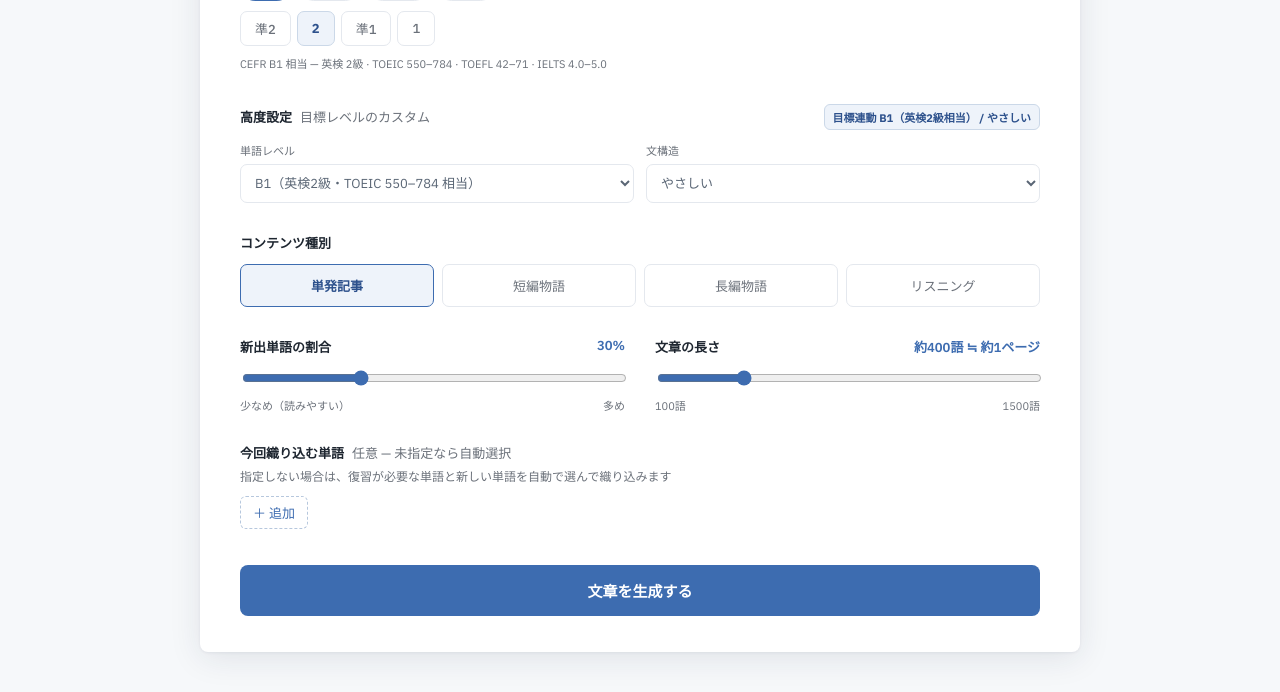
Test: <SetupScreen/> (overhauled: intent / exam / word target / content type) › gives manual chips a delete affordance and aria-label (A-2-4)
This screenshot has width=1280, height=692.
(page scrolled)
Click the button "＋ 追加".
click(274, 512)  # box [240,496,308,529]
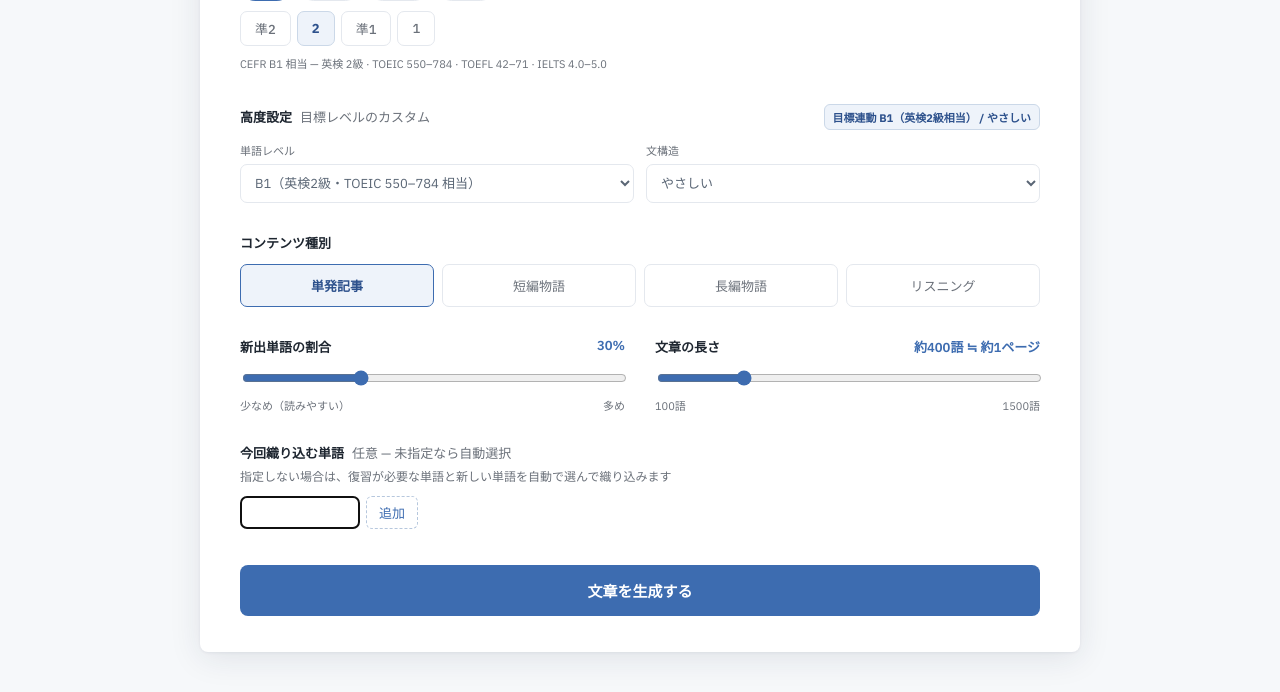
Type "zeal" into the field named "追加する単語".
click(300, 512); type("zeal")  # box [240,496,360,529]
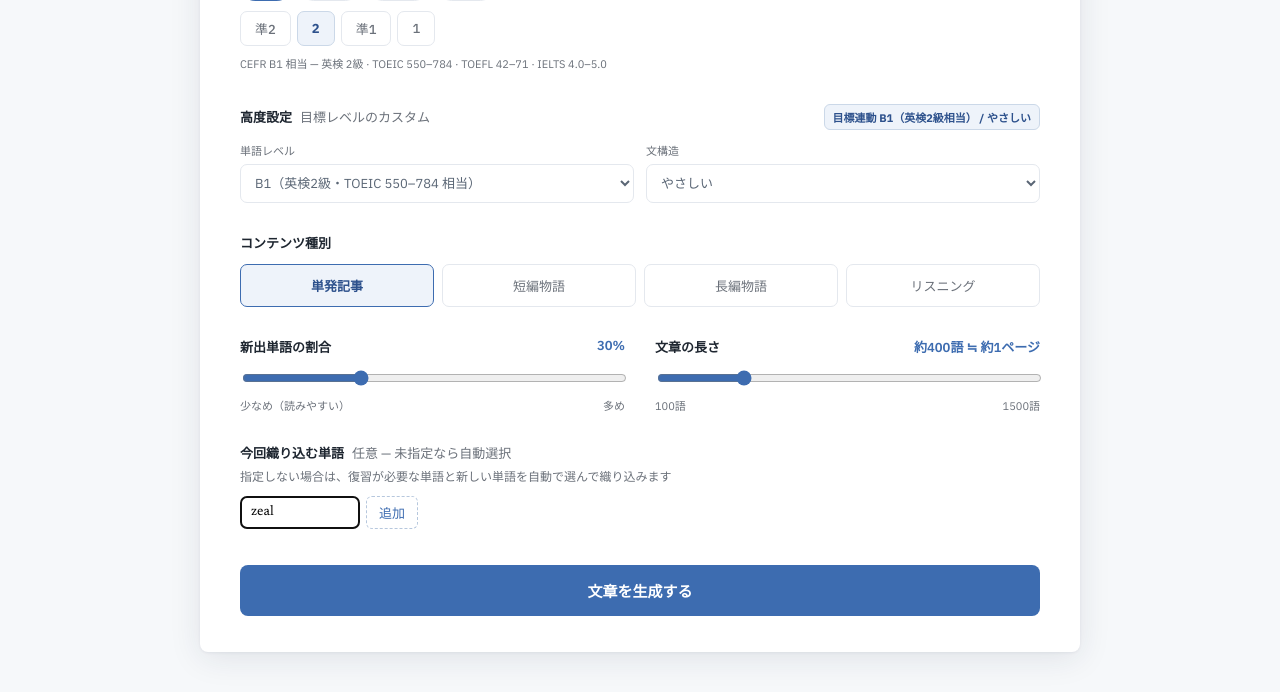
Click the button "追加".
click(392, 512)  # box [366,496,418,529]
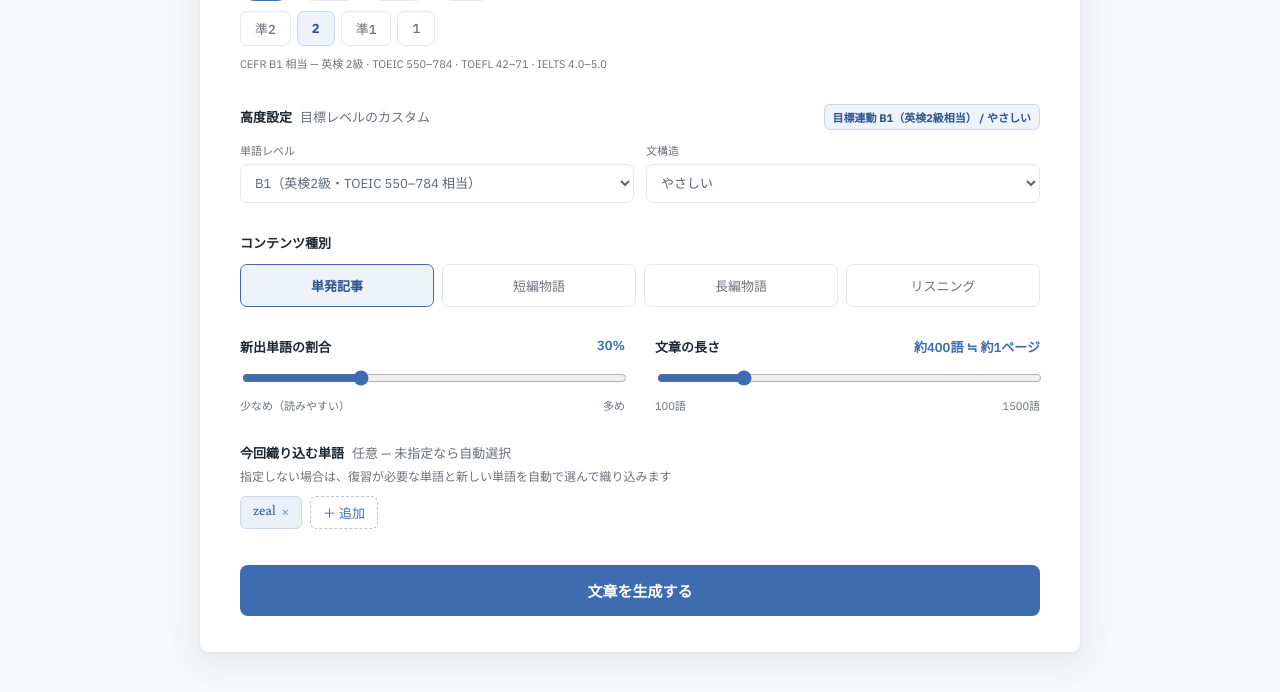
Now the button with test id "target-added-zeal" shows "×", box [240,496,302,529]
